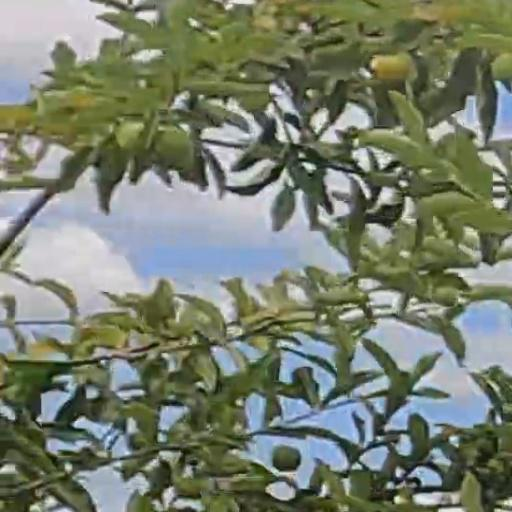acerola_verde: (273, 445, 301, 472)
acerola_vermelha: (378, 55, 408, 82)
